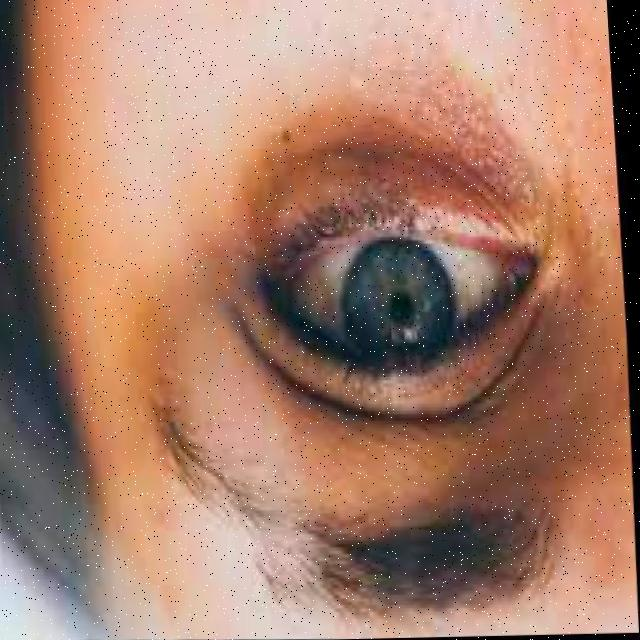puffy_eyes: (261, 141, 524, 265)
